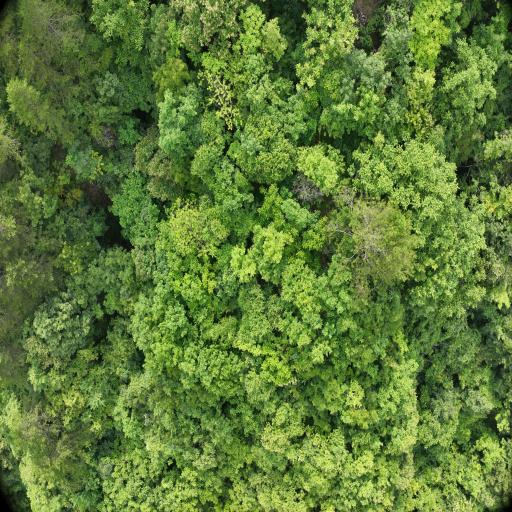dead-tree: (296, 178, 312, 200)
